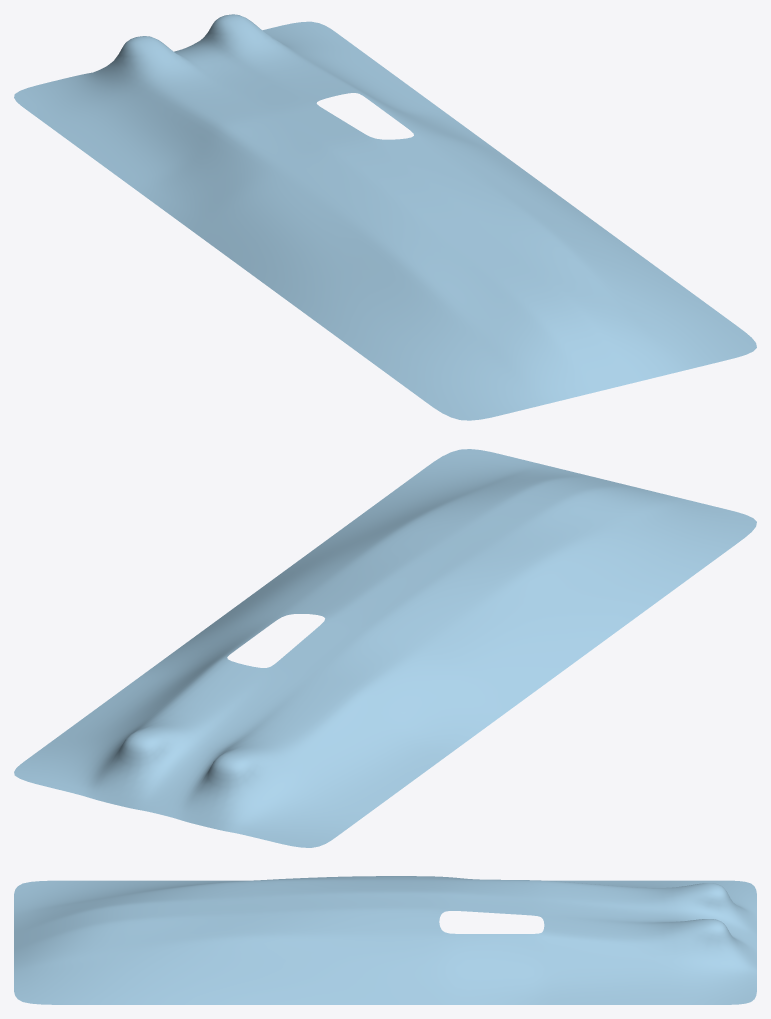
The model's file is Sheet.fbx.
The picture shows the model from 3 angles, top to bottom: view 1: azimuth 30°, elevation 25°; view 2: azimuth 150°, elevation 25°; view 3: azimuth 270°, elevation 25°; orthographic projection. The views are drawn at different scales.
Visible parts, largest first — view 1: Sheet; view 2: Sheet; view 3: Sheet.
Part boxes in pixels (bbox=[...]): Sheet: bbox=[14, 14, 756, 420]; Sheet: bbox=[14, 449, 756, 847]; Sheet: bbox=[14, 876, 756, 1004].
Bounding box in the file's own units: 62.43 × 10.07 × 158.
